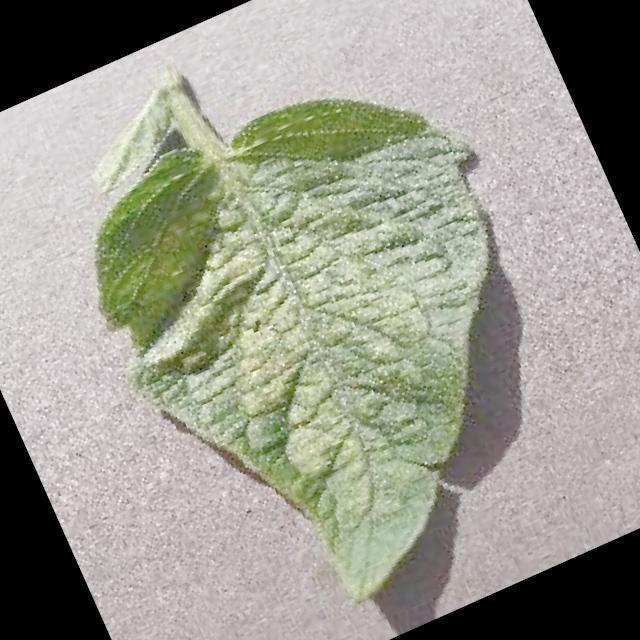Tomato spider mites leaf: (55, 45, 618, 640)
